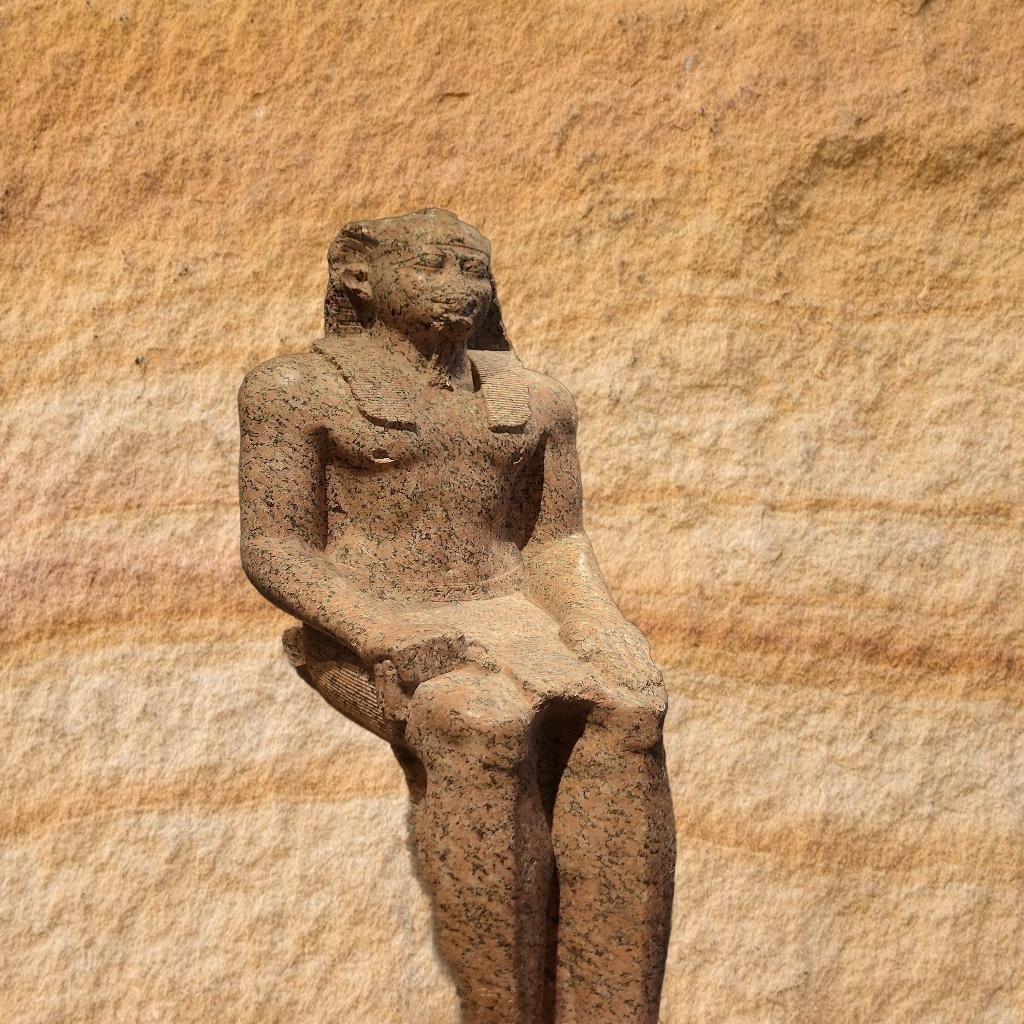Statue of Amenmhat I: (228, 204, 682, 1024)
